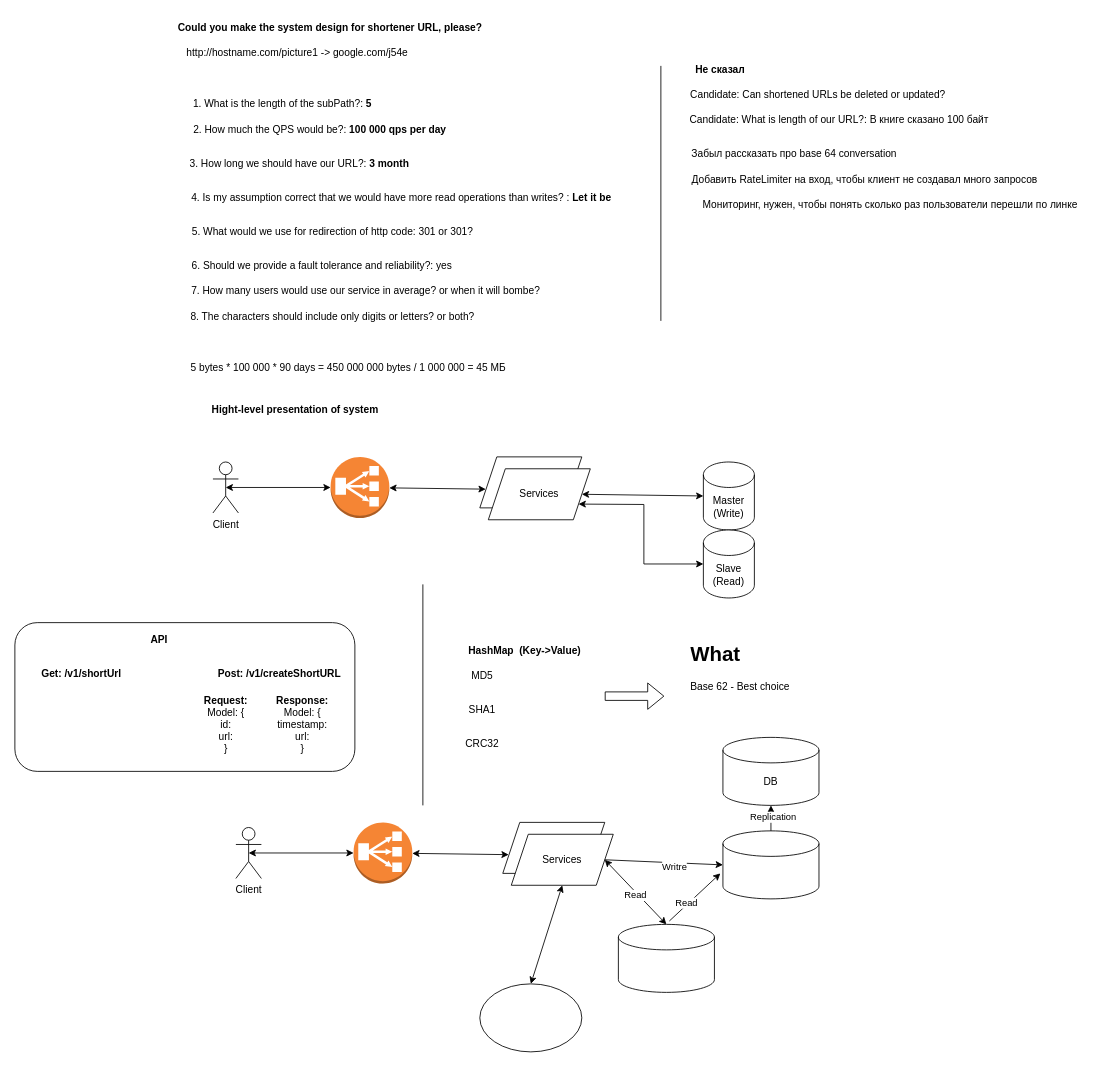
This 1109x1067 diagram has some shape labels left out. Each missing label, with the centre of its shape:
DB (Master): the point at 770,864
MemCached: the point at 666,958
Monitoring: the point at 530,1017
